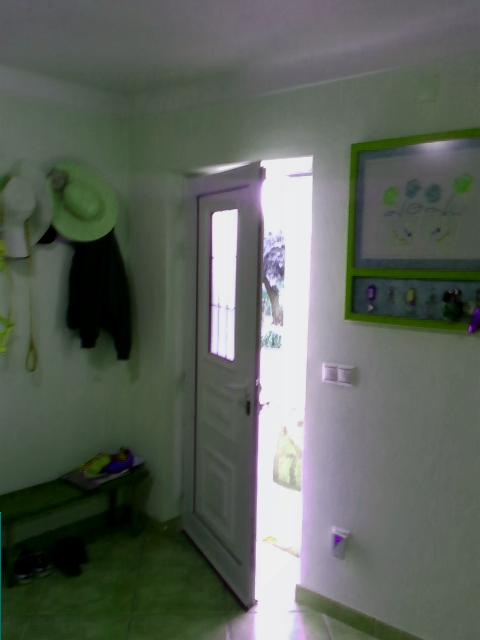semi_door: (174, 149, 313, 610)
